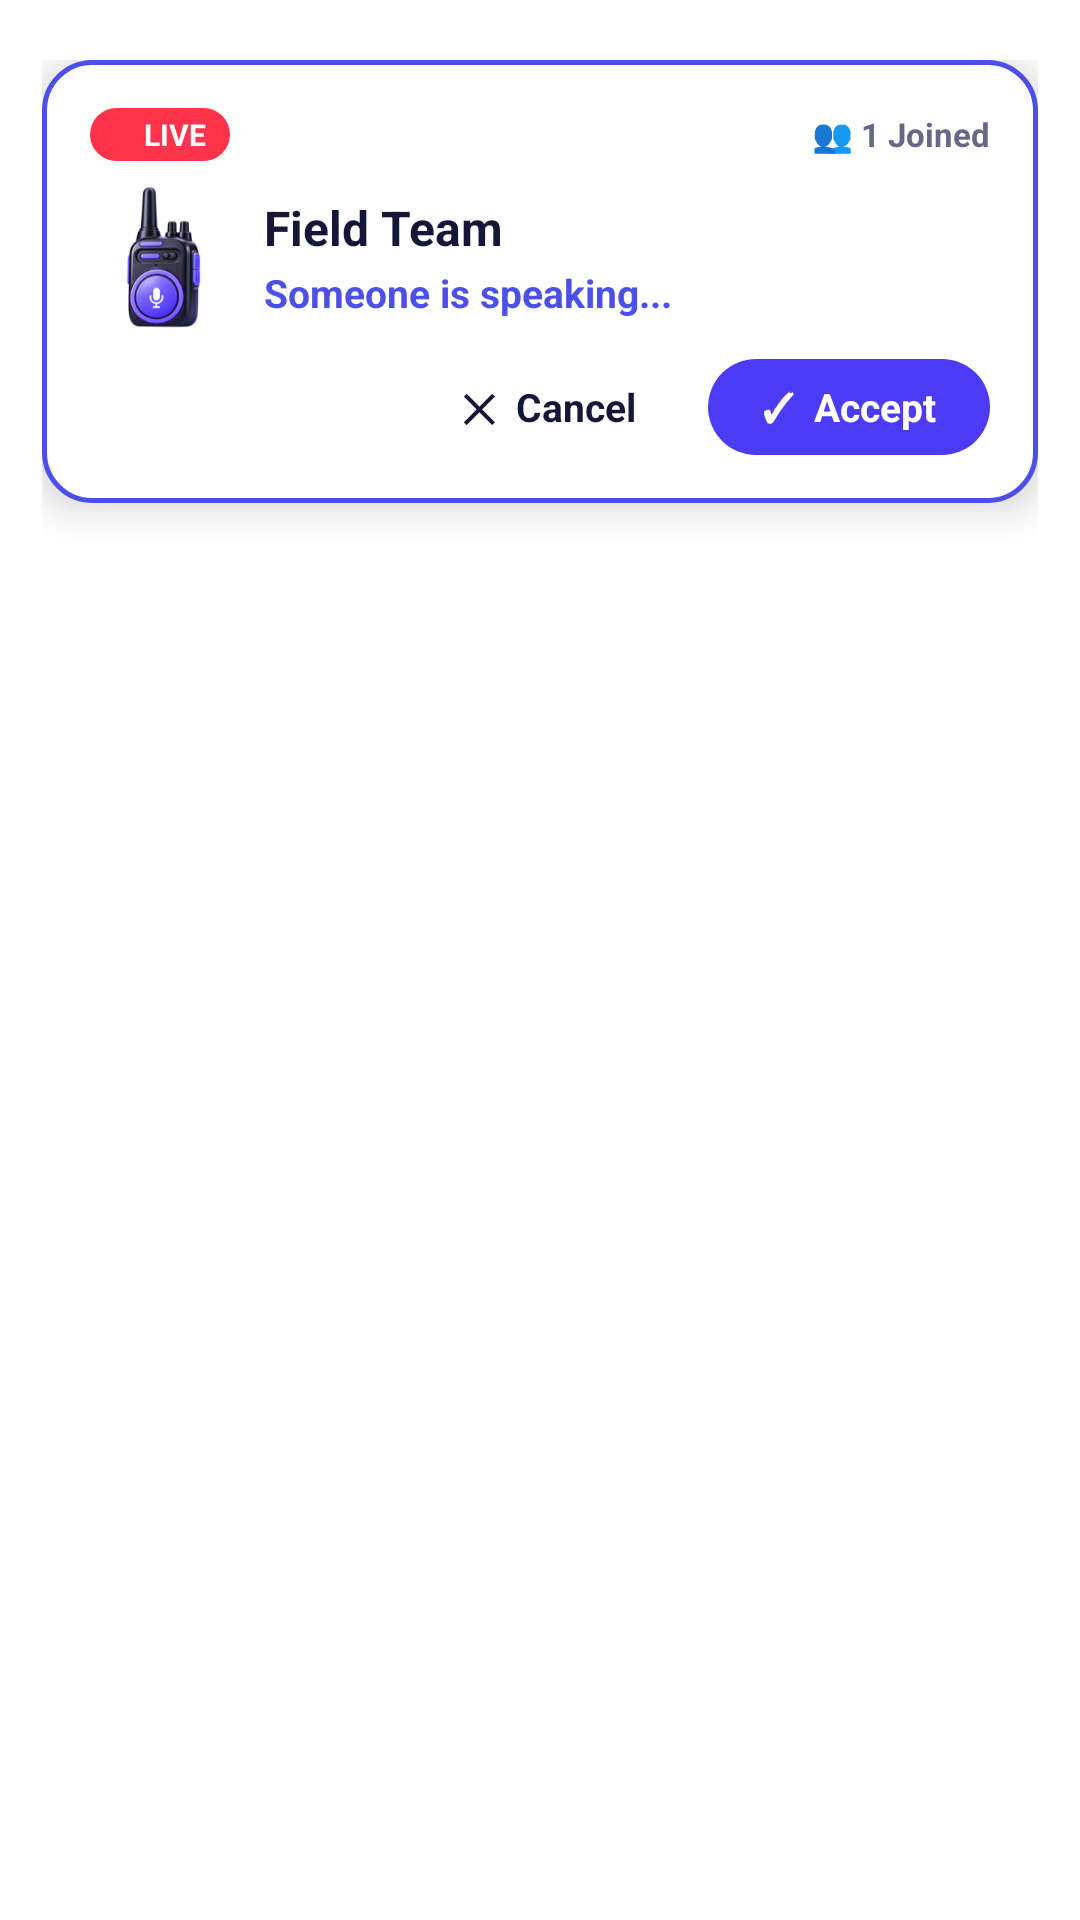

Where to tap for icons on this 1080 × 1920 app screen, as [x,y]:
Walkie Device: [163,257]
